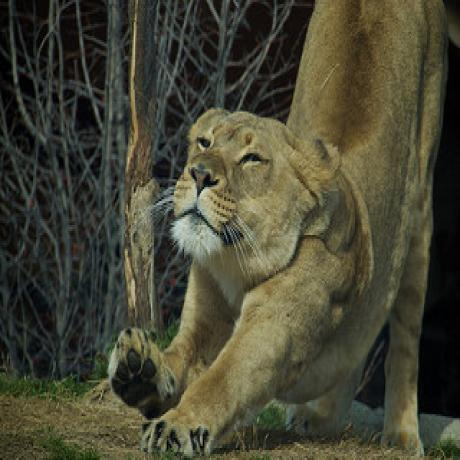Lion: (116, 0, 445, 460)
